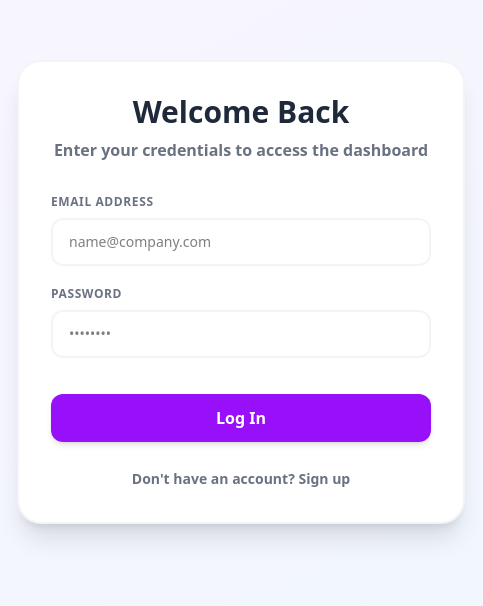
Test: Login Component Test Suite › [UI-02] Toggles between Login and Sign Up modes
Click the toggle button
Click the button "Don't have an account? Sign up".
click(241, 479)  # box [132,469,350,489]
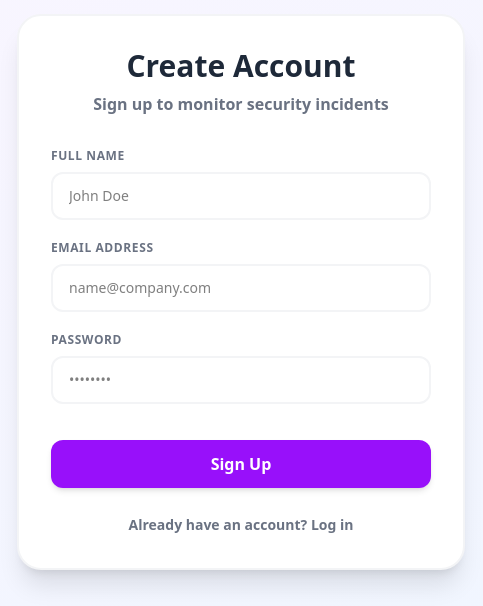
Result: the heading "Create Account" is shown at [126,45,356,86]
Result: the field labelled "Full Name" is shown at [51,172,431,220]
Result: the button "Sign Up" is shown at [51,440,431,488]
Click it again to go back
Click the button "Already have an account? Log in".
click(241, 525)  # box [128,515,353,535]
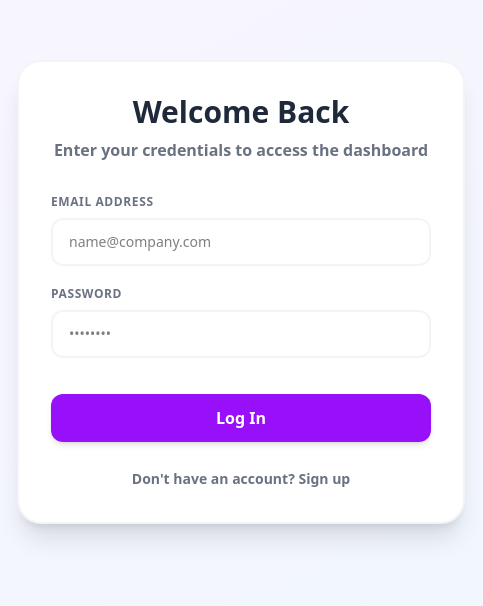
Result: the heading "Welcome Back" is shown at [133,91,349,132]
